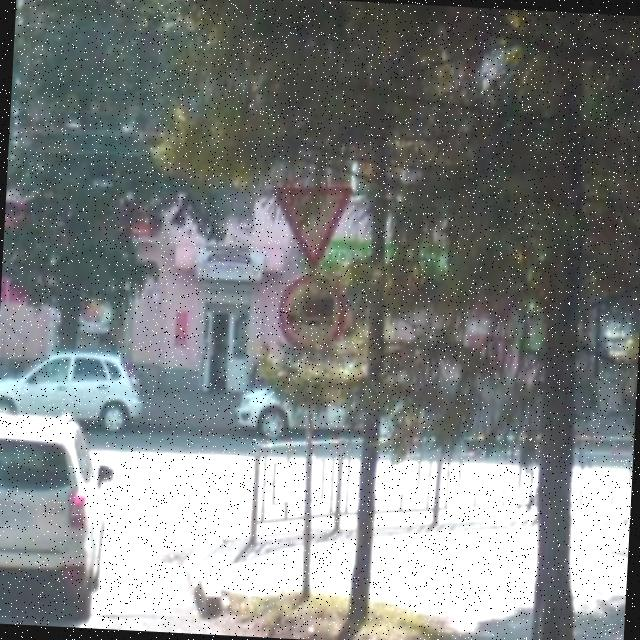Ustap pierwszenstwa: (264, 174, 357, 276)
